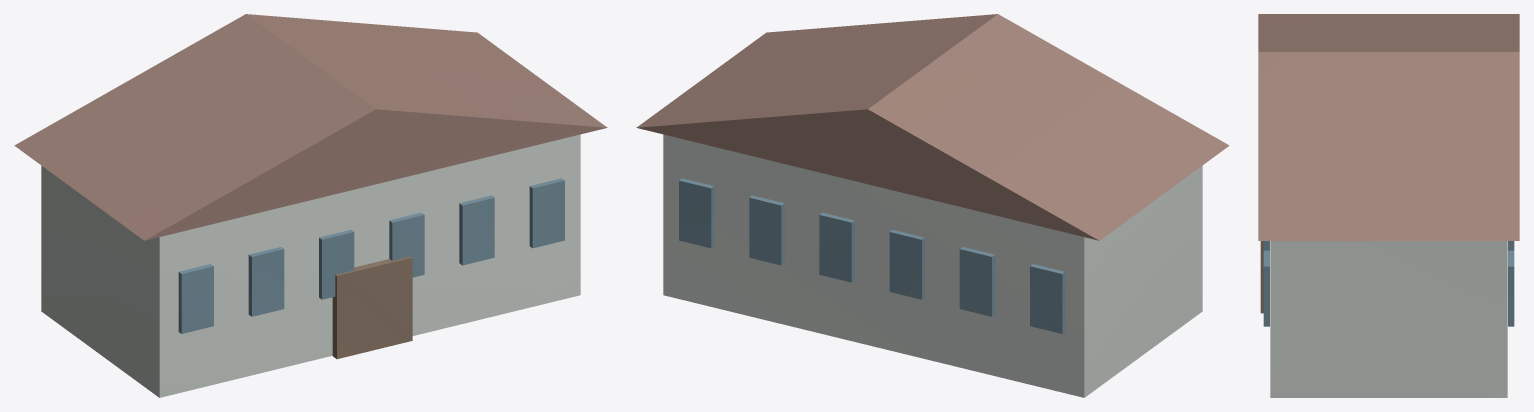
File: greenhouse-01.glb
3 views of the same model, side by side, from view 1: azimuth 30°, elevation 25°; view 2: azimuth 150°, elevation 25°; view 3: azimuth 270°, elevation 25° (orthographic).
Visible parts, largest first — view 1: world; view 2: world; view 3: world.
Boxes of the visible parts, x1,y1,x2,y2 form: world: (14, 14, 607, 397); world: (636, 14, 1229, 397); world: (1258, 14, 1519, 397).
Bounding box in the file's own units: 2.13 × 1.06 × 1.04.
